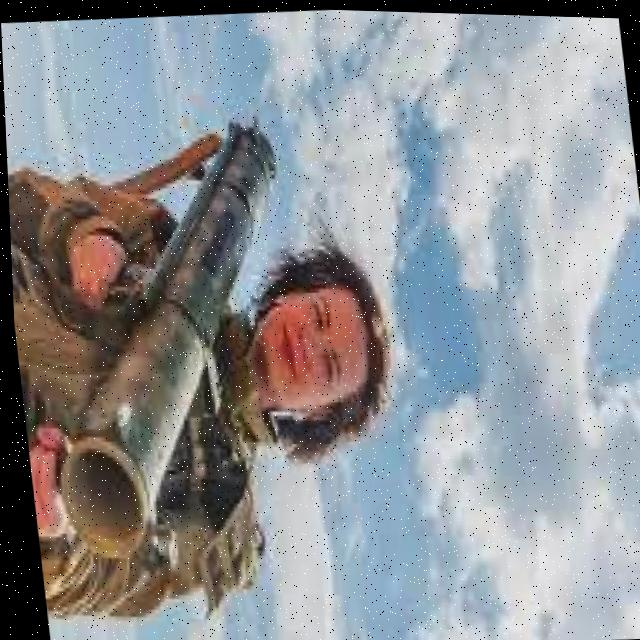rocket: (15, 97, 326, 571)
